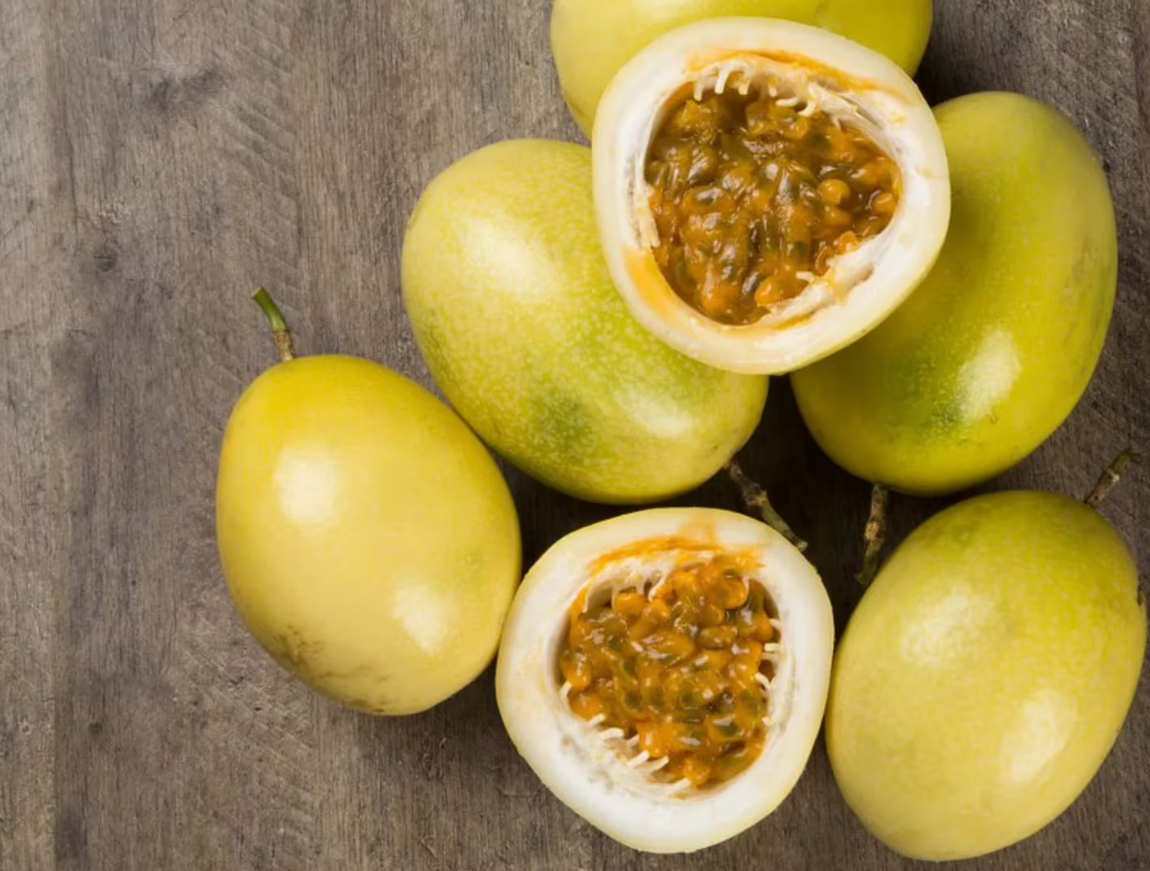maracuya: (384, 128, 775, 514), (790, 81, 1129, 485), (820, 483, 1150, 871), (204, 350, 523, 721)
